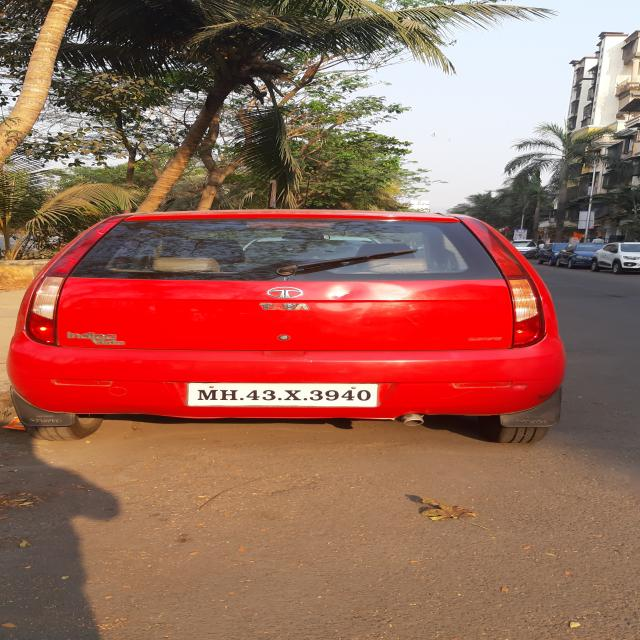Number-Plate: (186, 383, 378, 402)
